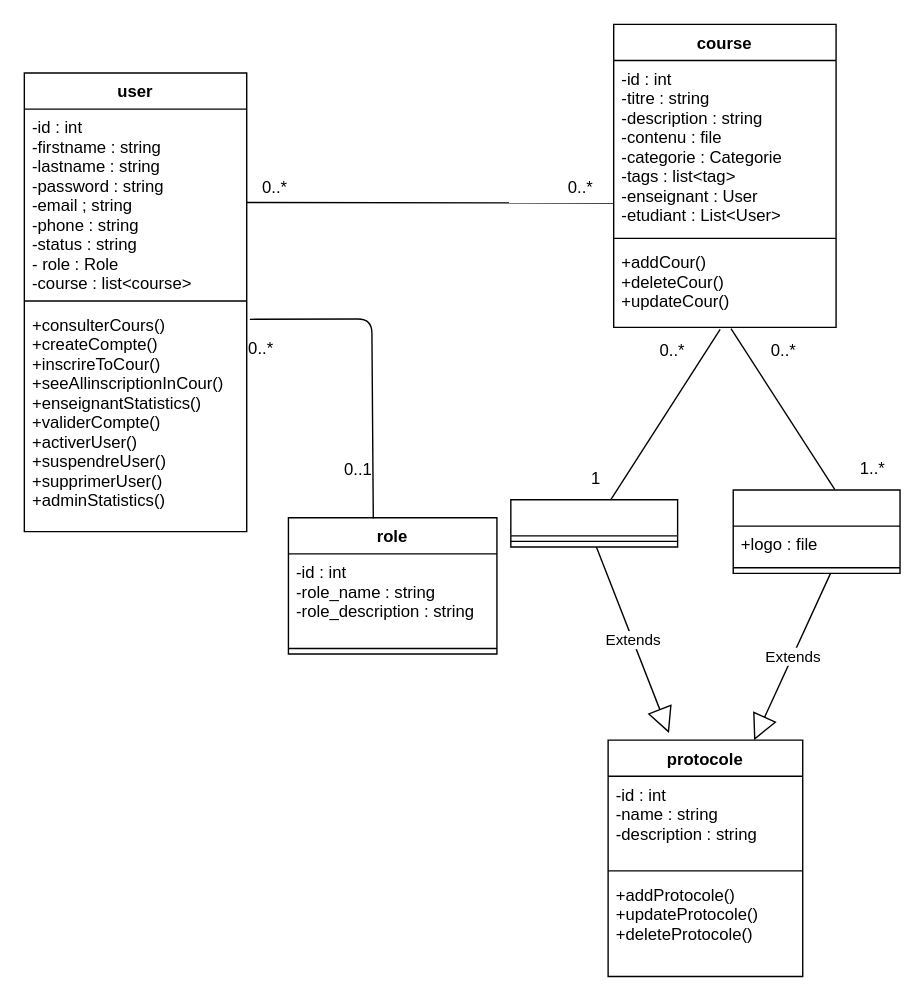
The diagram is 924 pixels wide and 1005 high, and some of its shapes have lost their labels. Here are the shapes that lost their labels. From the top down, the box of each, then its label:
(509, 498, 678, 547): categorie
(732, 489, 900, 573): tag
